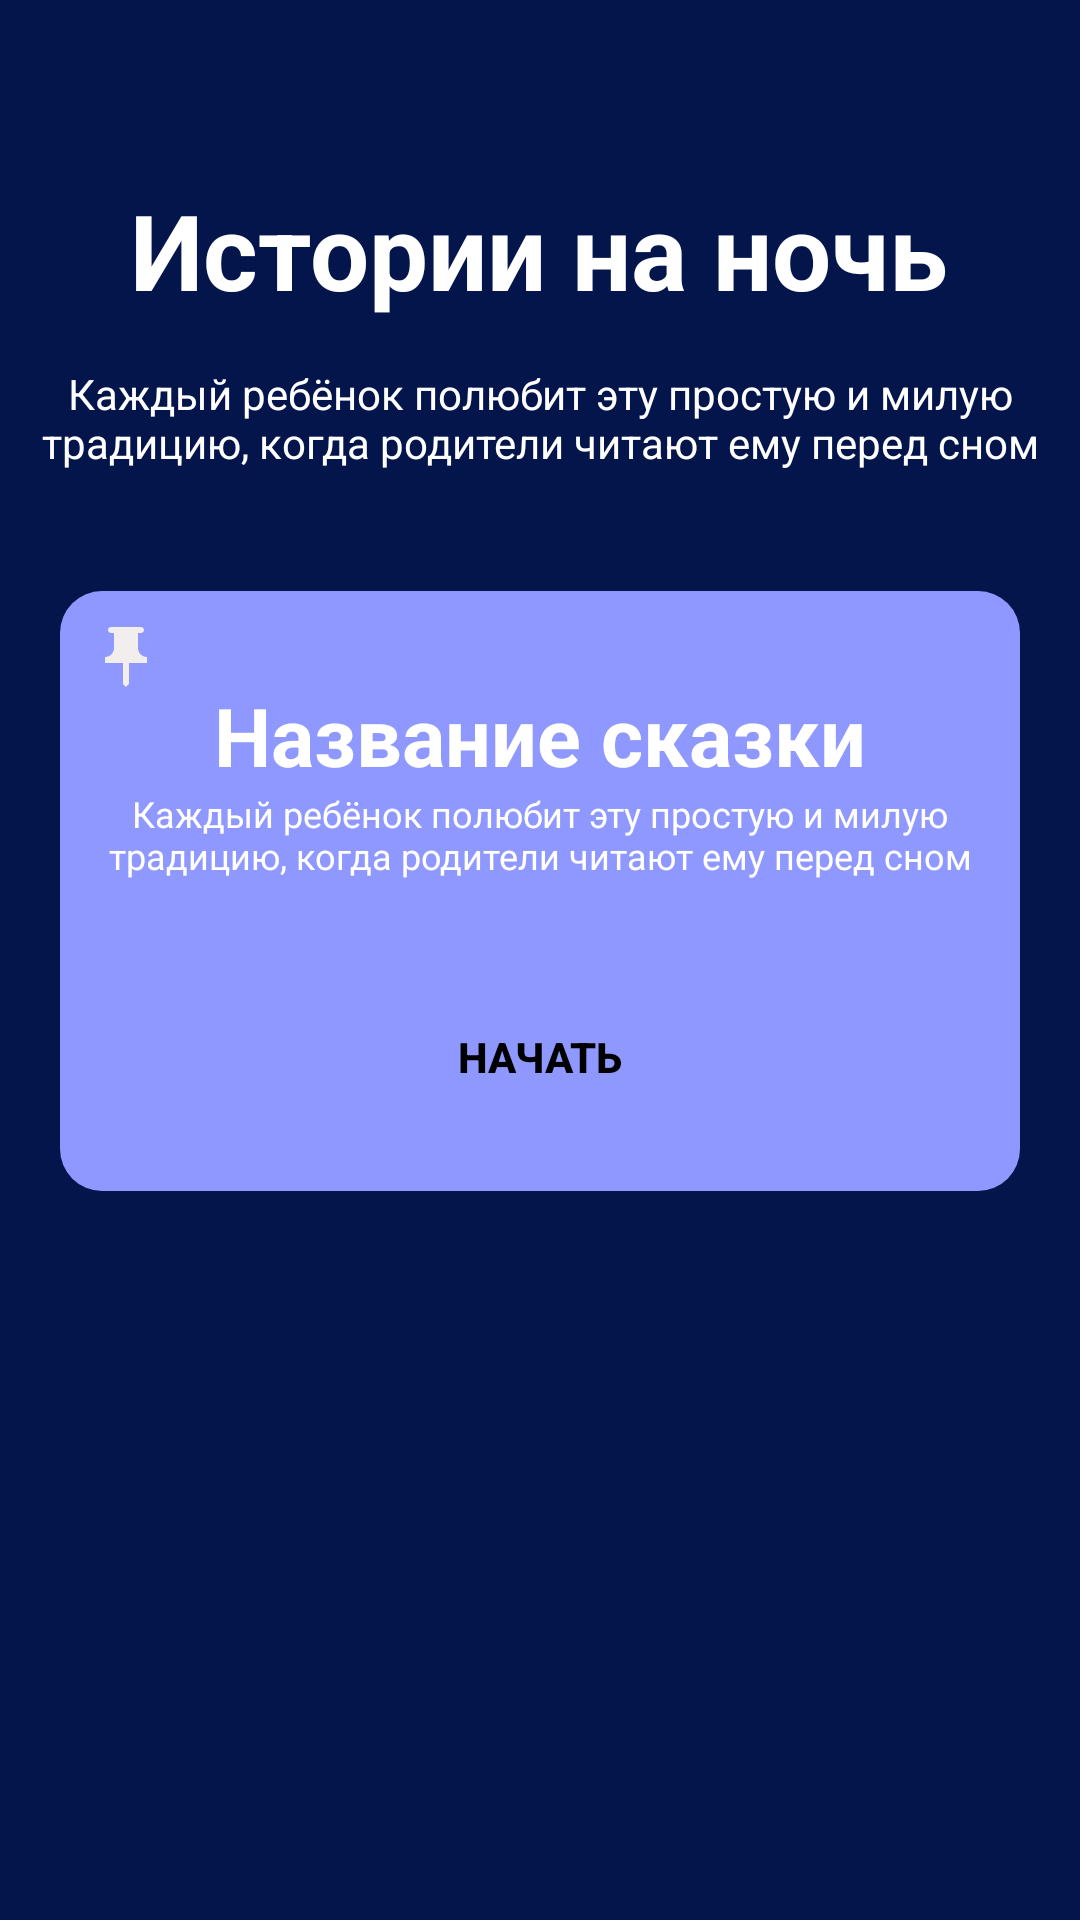

Where icons sit on this 1080w x 1920h app screen, as (x1, y1, x2, y2):
pin: (105, 627, 147, 687)
